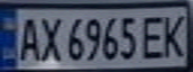5: (118, 12, 142, 61)
6: (63, 14, 84, 62), (100, 14, 121, 62)
9: (81, 14, 103, 62)
A: (12, 14, 42, 62)
E: (139, 11, 169, 61)
K: (157, 10, 193, 58)
X: (36, 12, 63, 63)
